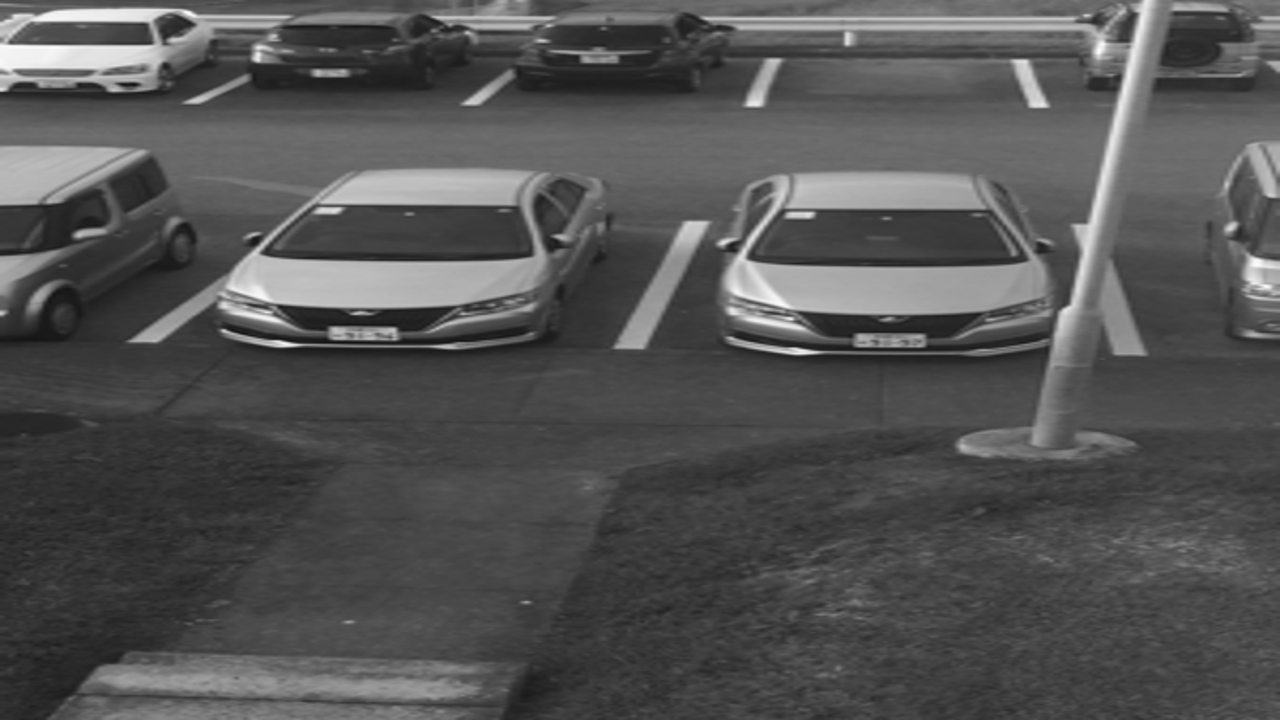license: (846, 325, 931, 357), (320, 321, 402, 350)
